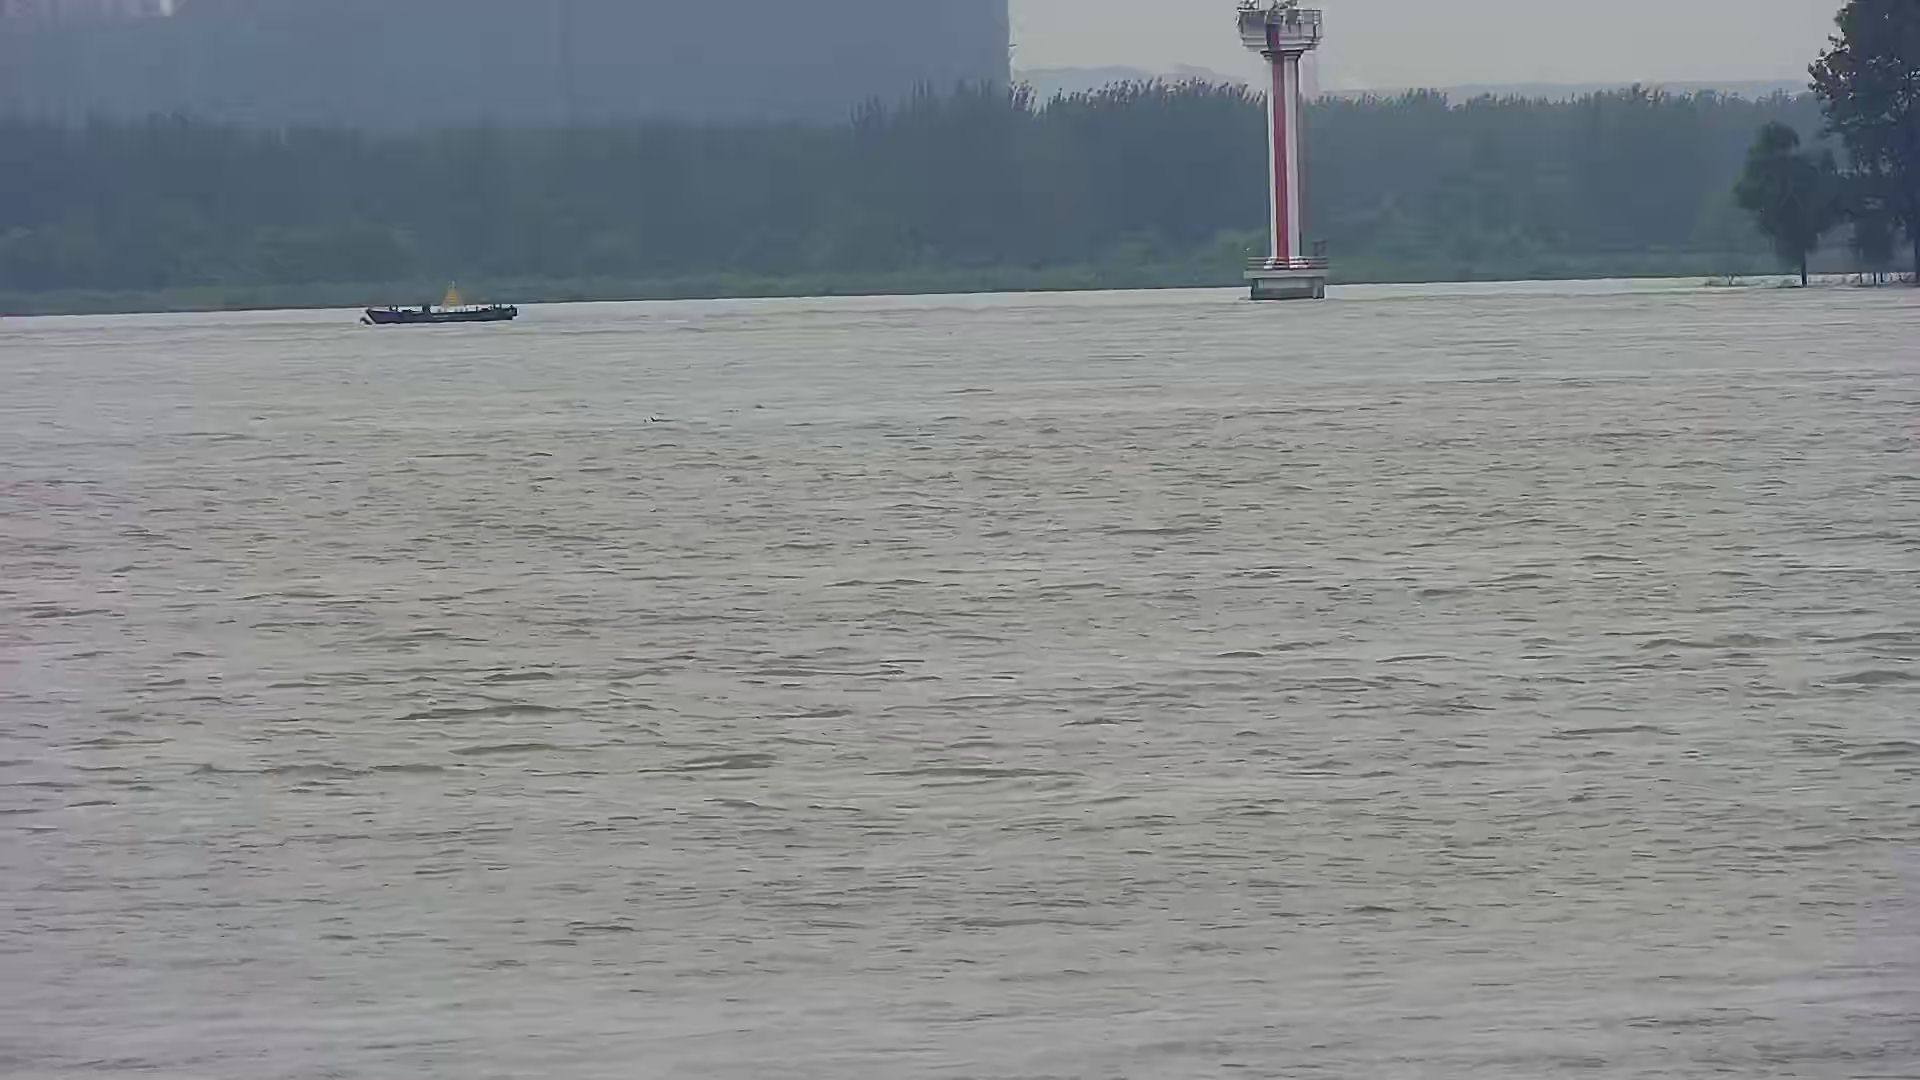boat: (351, 273, 517, 323)
platform: (1232, 5, 1328, 297)
tree: (1817, 1, 1920, 289), (1731, 105, 1847, 286)
